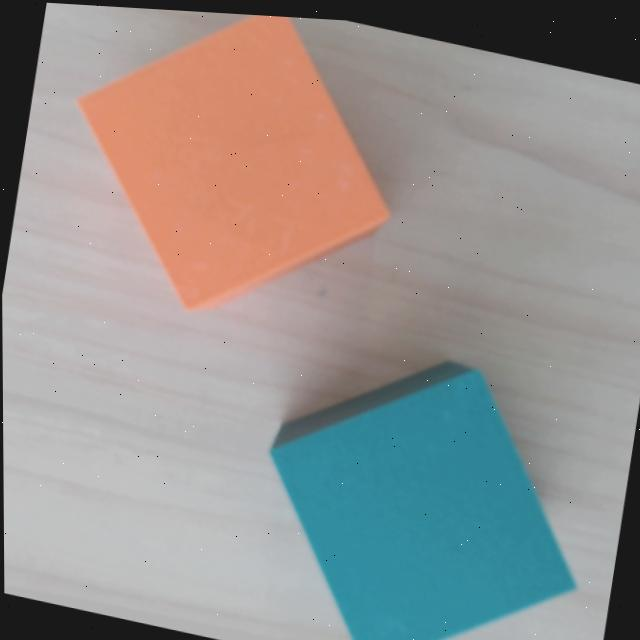Kubus-Hijau-505050: (262, 343, 577, 640)
